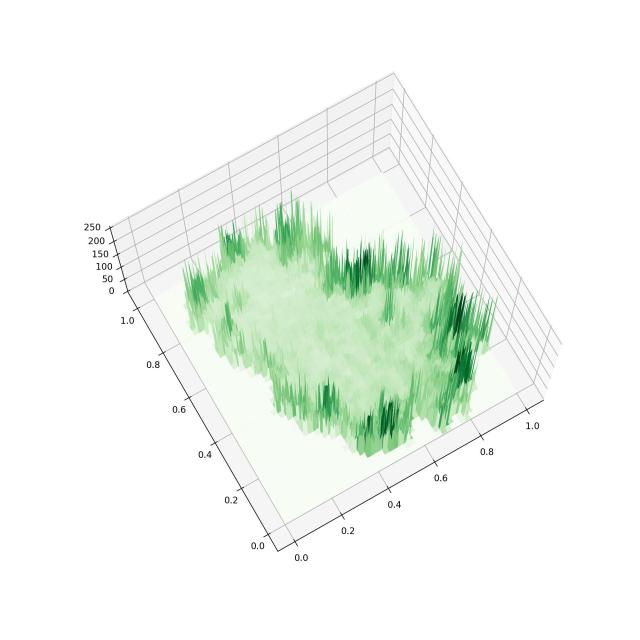spruce: (78, 60, 580, 575)
